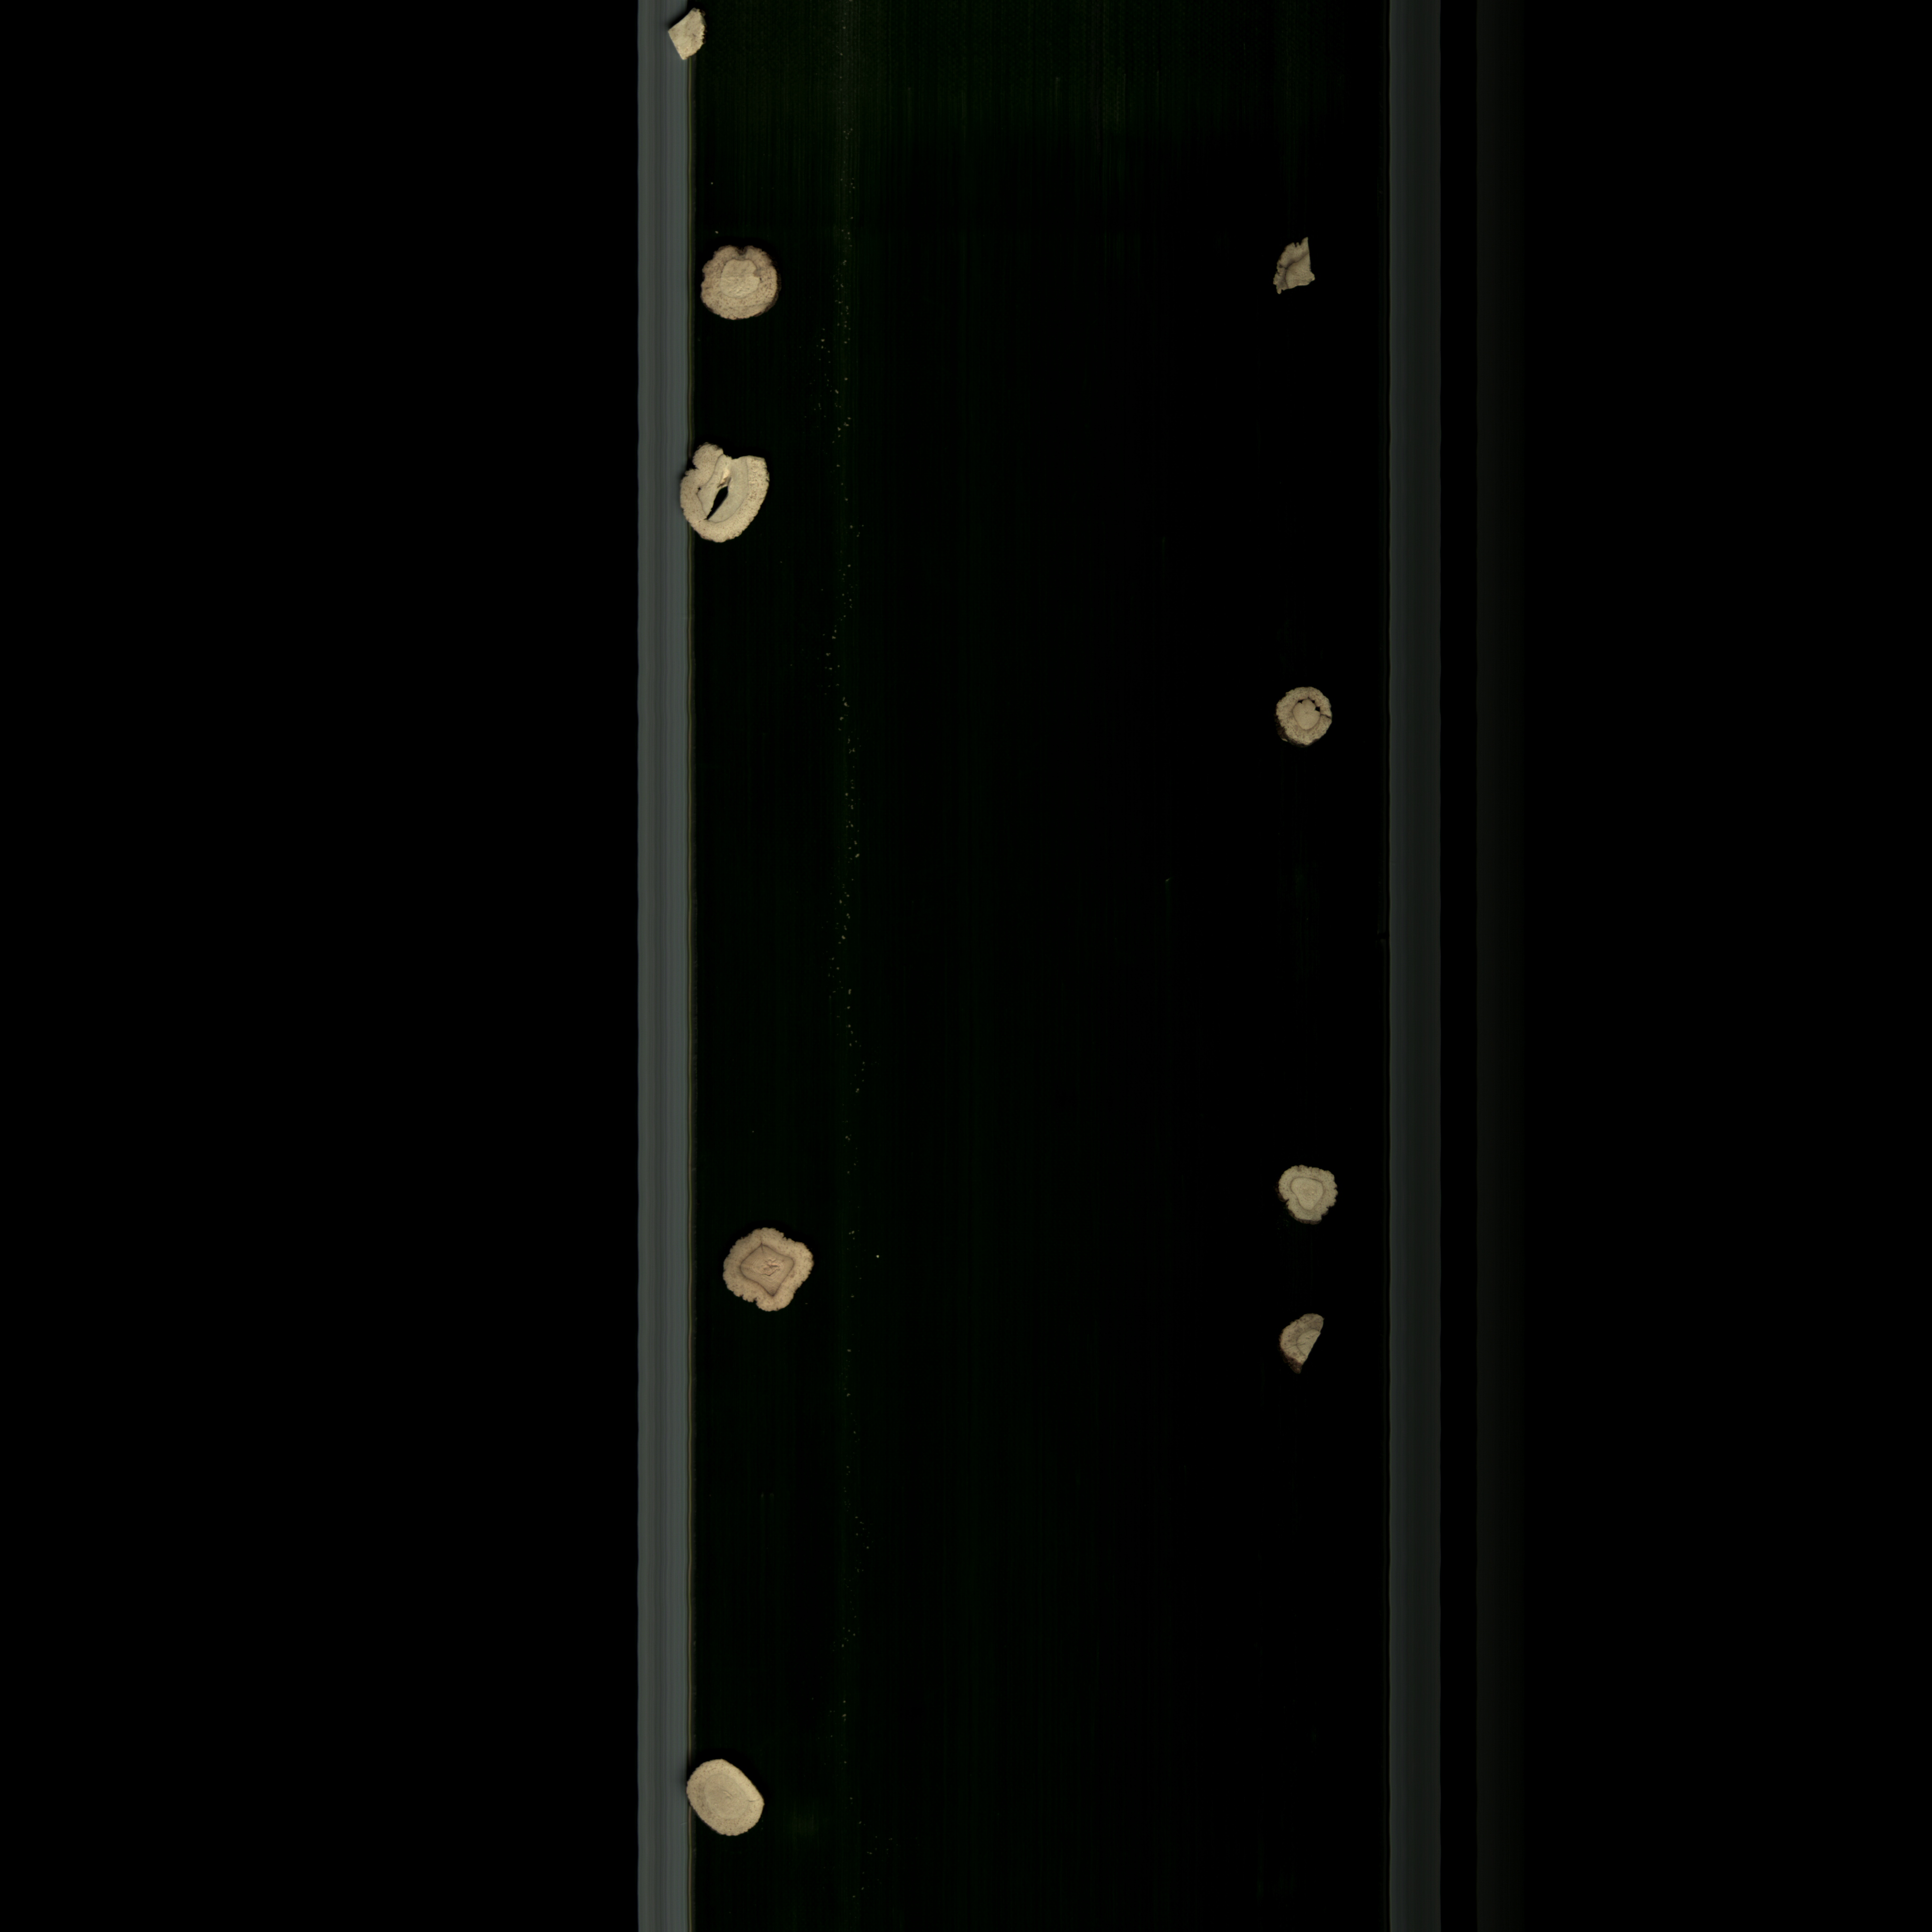debris: (1281, 1302, 1343, 1382)
distortion: (1270, 1159, 1348, 1233)
hole: (678, 428, 786, 556), (1265, 674, 1345, 759)
moldy: (718, 1217, 821, 1325), (695, 241, 798, 326), (1261, 225, 1323, 318)
